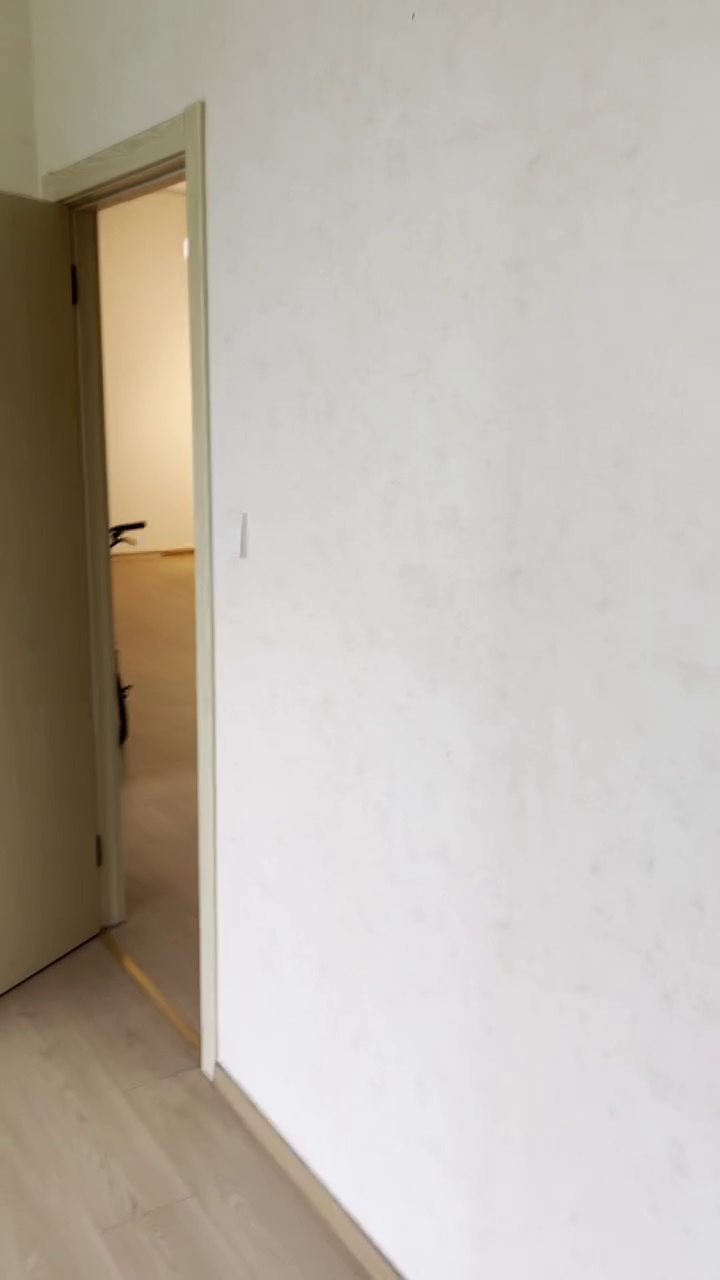button: (221, 508, 248, 559)
